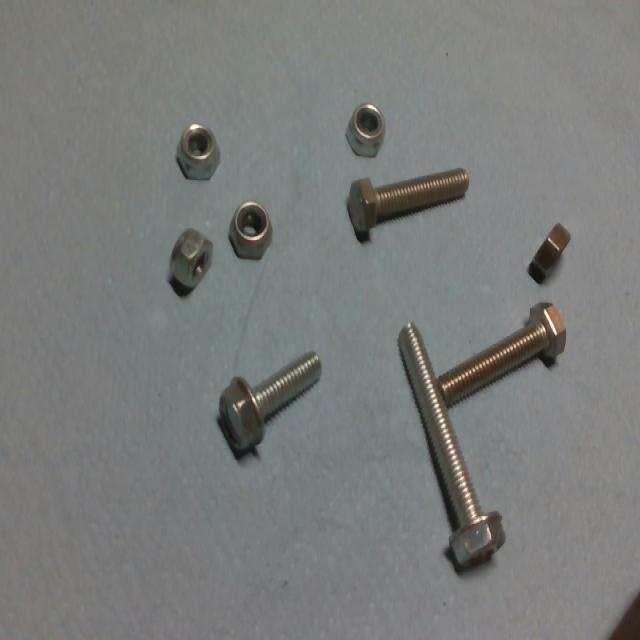Bolt: (397, 323, 505, 567), (438, 303, 564, 405), (217, 352, 321, 459), (346, 168, 468, 237)
Nut: (169, 229, 212, 293), (228, 201, 271, 263), (175, 124, 219, 183), (529, 224, 570, 287), (346, 103, 385, 156)
